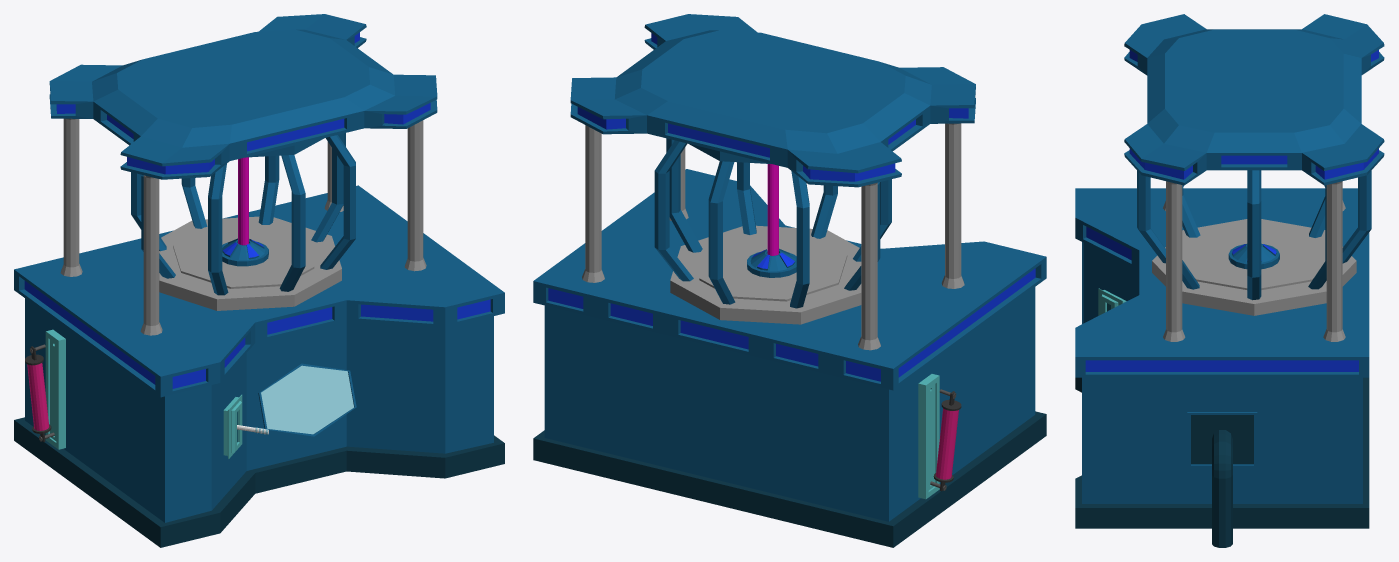
File: generator.fbx
3 views of the same model, side by side, from view 1: azimuth 30°, elevation 25°; view 2: azimuth 150°, elevation 25°; view 3: azimuth 270°, elevation 25° (orthographic). The views are drawn at different scales.
Visible parts, largest first — view 1: Generator, powercell; view 2: Generator, powercell; view 3: Generator.
Part boxes in pixels (x1,y1,x2,y2): Generator: (14,14,504,547); powercell: (25,344,54,441); Generator: (533,14,1046,547); powercell: (930,389,961,491); Generator: (1075,14,1384,547).
Bounding box in the file's own units: 551 × 466 × 359.
